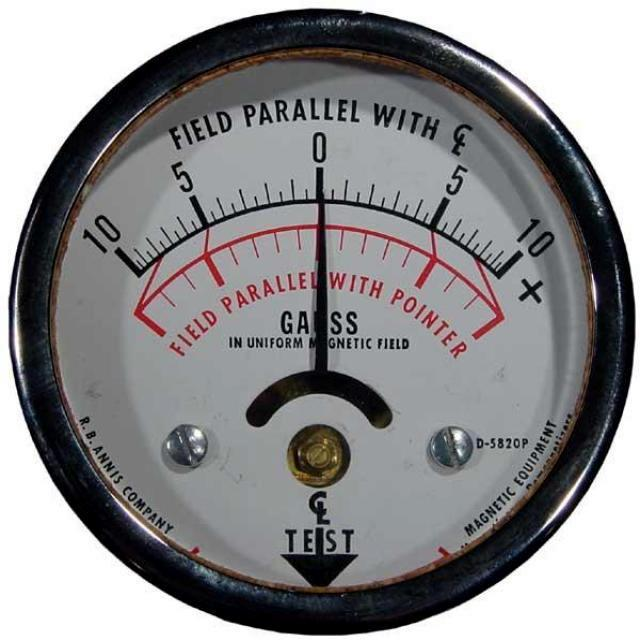Needle_Tip: (286, 160, 354, 256)
Needle_base: (260, 333, 392, 435)
max_value: (507, 203, 567, 272)
min_value: (67, 194, 141, 279)
